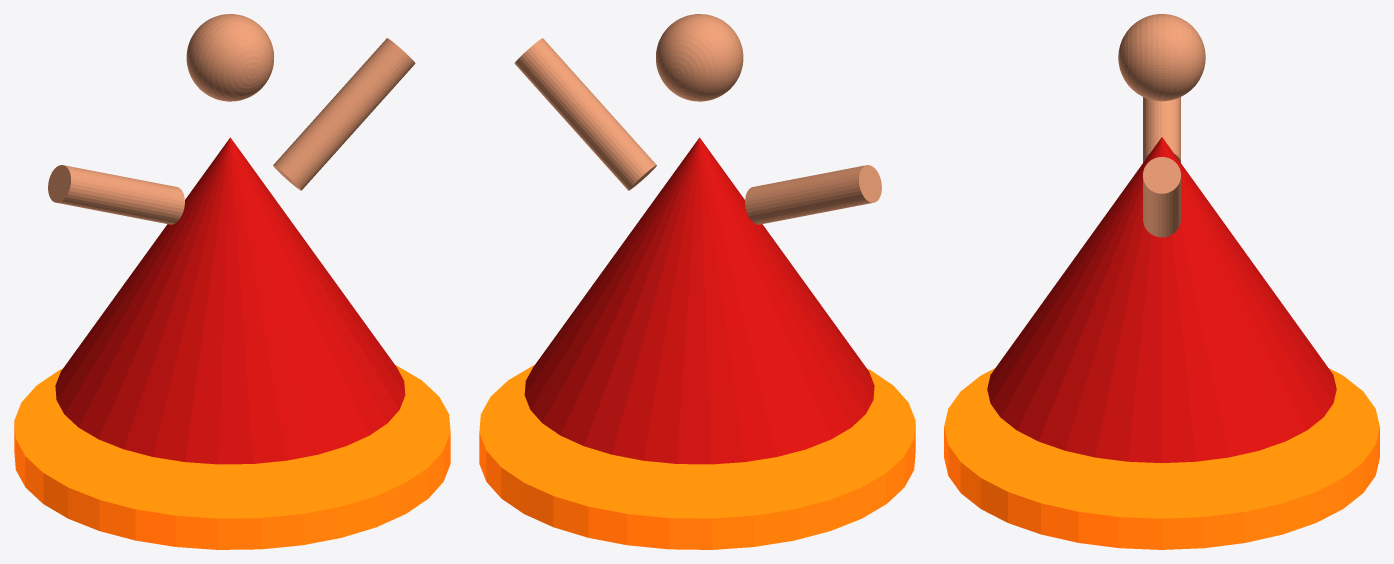
File: spanish_flamenco_dancer.dae
3 views of the same model, side by side, from view 1: azimuth 30°, elevation 25°; view 2: azimuth 150°, elevation 25°; view 3: azimuth 270°, elevation 25° (orthographic).
Visible parts, largest first — view 1: 11_02_Popular_Spanish_Flamenco_Dancer_part_02, 11_02_Popular_Spanish_Flamenco_Dancer_ROOT_base, 11_02_Popular_Spanish_Flamenco_Dancer_part_04, 11_02_Popular_Spanish_Flamenco_Dancer_part_01, 11_02_Popular_Spanish_Flamenco_Dancer_part_03; view 2: 11_02_Popular_Spanish_Flamenco_Dancer_part_02, 11_02_Popular_Spanish_Flamenco_Dancer_ROOT_base, 11_02_Popular_Spanish_Flamenco_Dancer_part_04, 11_02_Popular_Spanish_Flamenco_Dancer_part_01, 11_02_Popular_Spanish_Flamenco_Dancer_part_03; view 3: 11_02_Popular_Spanish_Flamenco_Dancer_part_02, 11_02_Popular_Spanish_Flamenco_Dancer_ROOT_base, 11_02_Popular_Spanish_Flamenco_Dancer_part_01, 11_02_Popular_Spanish_Flamenco_Dancer_part_04, 11_02_Popular_Spanish_Flamenco_Dancer_part_03.
Part boxes in pixels (bbox=[...]): 11_02_Popular_Spanish_Flamenco_Dancer_part_02: bbox=[55, 137, 405, 464]; 11_02_Popular_Spanish_Flamenco_Dancer_ROOT_base: bbox=[14, 365, 450, 549]; 11_02_Popular_Spanish_Flamenco_Dancer_part_04: bbox=[273, 38, 415, 190]; 11_02_Popular_Spanish_Flamenco_Dancer_part_01: bbox=[186, 14, 273, 101]; 11_02_Popular_Spanish_Flamenco_Dancer_part_03: bbox=[48, 165, 184, 224]; 11_02_Popular_Spanish_Flamenco_Dancer_part_02: bbox=[524, 137, 874, 464]; 11_02_Popular_Spanish_Flamenco_Dancer_ROOT_base: bbox=[479, 365, 915, 549]; 11_02_Popular_Spanish_Flamenco_Dancer_part_04: bbox=[514, 38, 656, 190]; 11_02_Popular_Spanish_Flamenco_Dancer_part_01: bbox=[656, 14, 743, 101]; 11_02_Popular_Spanish_Flamenco_Dancer_part_03: bbox=[745, 165, 881, 224]; 11_02_Popular_Spanish_Flamenco_Dancer_part_02: bbox=[987, 137, 1336, 462]; 11_02_Popular_Spanish_Flamenco_Dancer_ROOT_base: bbox=[944, 368, 1379, 549]; 11_02_Popular_Spanish_Flamenco_Dancer_part_01: bbox=[1118, 14, 1205, 101]; 11_02_Popular_Spanish_Flamenco_Dancer_part_04: bbox=[1143, 157, 1180, 237]; 11_02_Popular_Spanish_Flamenco_Dancer_part_03: bbox=[1143, 97, 1180, 162].
Size of the model in its own units: 0.76 by 0.8442 by 0.76.
